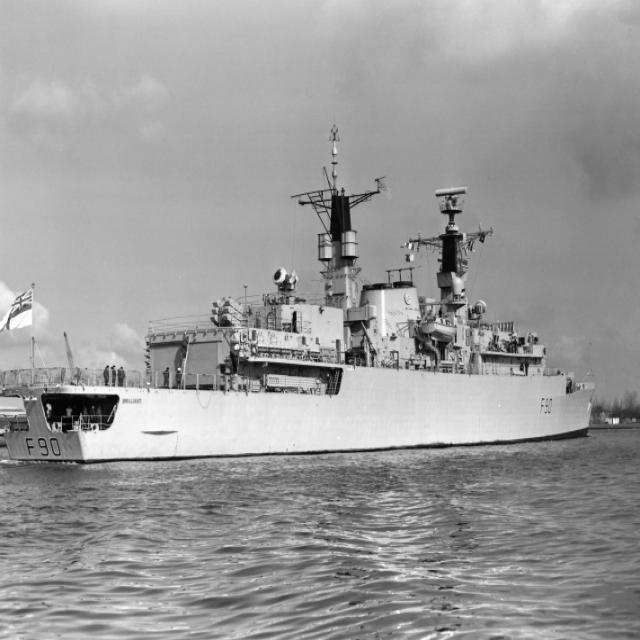Fragata: (1, 117, 601, 472)
